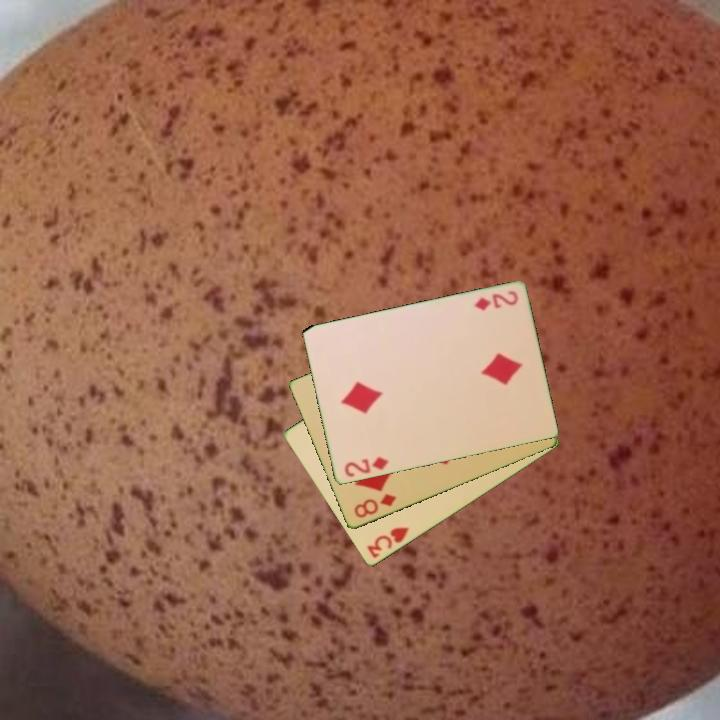2d: (470, 287, 521, 314), (341, 453, 391, 480)
3h: (363, 524, 412, 561)
8d: (350, 490, 399, 521)
